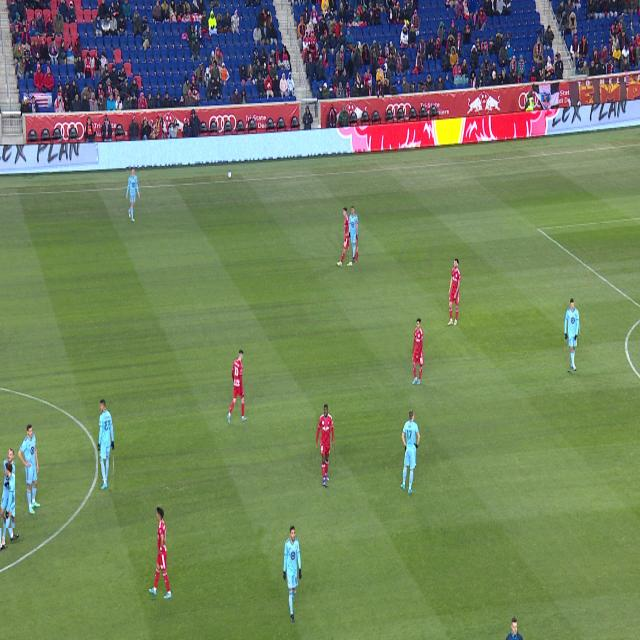player: (149, 507, 172, 599), (18, 425, 40, 514), (283, 526, 301, 622), (0, 464, 19, 551), (401, 410, 420, 494), (316, 405, 334, 486), (98, 400, 114, 490), (227, 350, 246, 423), (0, 449, 15, 528), (565, 299, 579, 371), (337, 207, 353, 266), (447, 259, 461, 326), (412, 319, 424, 384), (127, 167, 139, 222), (349, 207, 358, 262), (2, 517, 6, 545)
referee: (506, 617, 523, 640)
